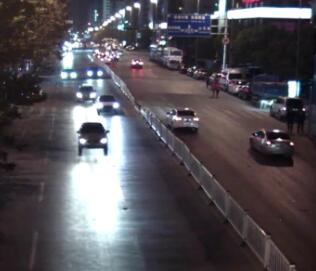bus: (159, 44, 182, 70), (147, 43, 160, 65)
car: (249, 128, 295, 159), (247, 72, 290, 105), (75, 120, 110, 156), (267, 95, 306, 123), (164, 106, 199, 133), (218, 67, 246, 92), (73, 82, 98, 104), (94, 94, 120, 115), (228, 78, 247, 95), (85, 66, 104, 78), (59, 68, 78, 79), (129, 56, 145, 69), (192, 67, 207, 79), (208, 72, 220, 85), (100, 54, 112, 64), (109, 50, 120, 60), (187, 66, 195, 74)
